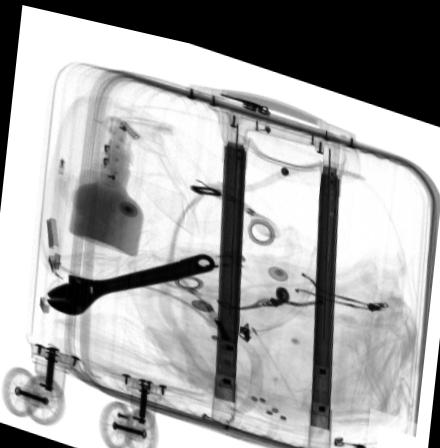Wrench: (45, 243, 215, 313)
